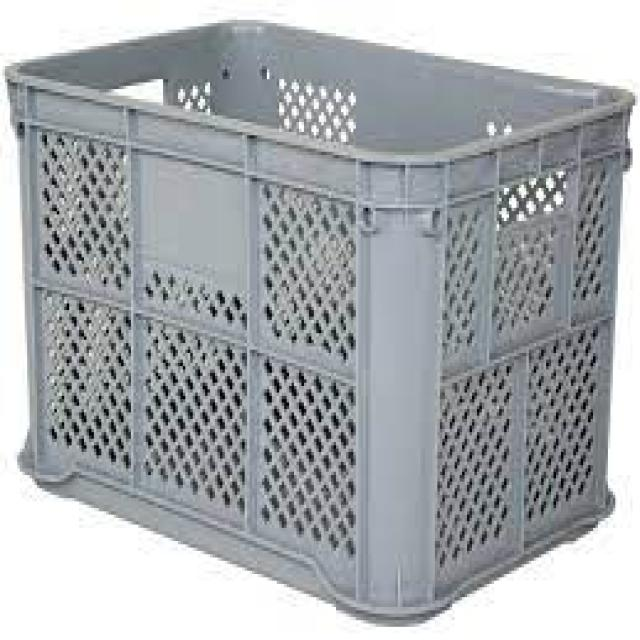basket: (0, 11, 634, 623)
